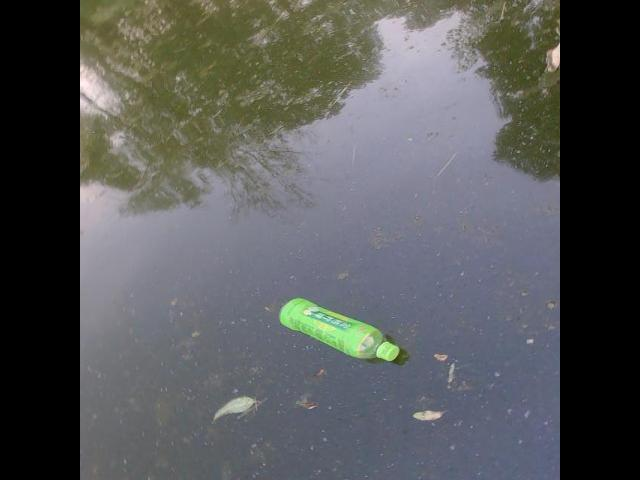Bottle: (274, 287, 404, 373)
